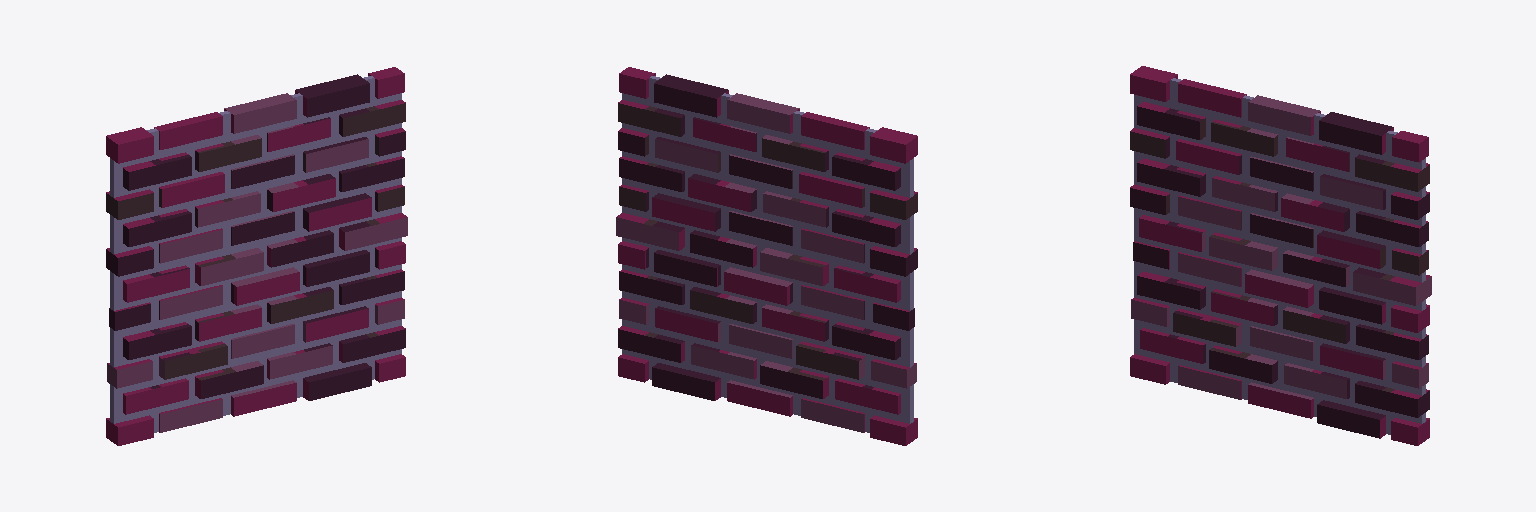
3 views of the same model, side by side, from view 1: azimuth 30°, elevation 25°; view 2: azimuth 150°, elevation 25°; view 3: azimuth 330°, elevation 25° (orthographic).
Bounding box in the file's own units: 32 × 32 × 3.
Materials: 1 (1 with a texture image).